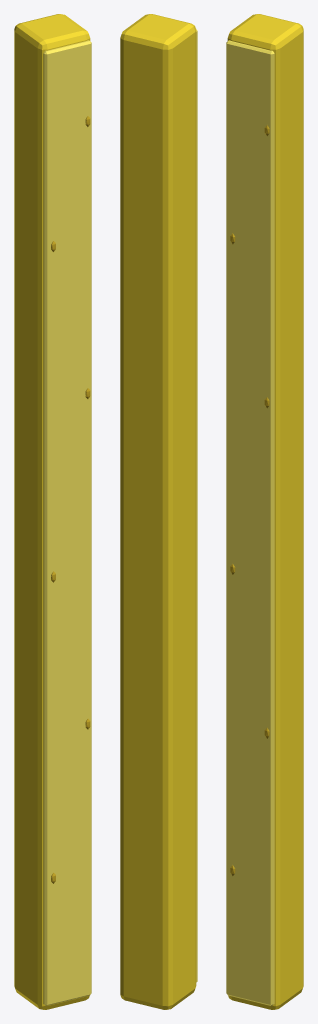
Rendered from danmuji.glb.
3 views of the same model, side by side, from view 1: azimuth 30°, elevation 25°; view 2: azimuth 150°, elevation 25°; view 3: azimuth 330°, elevation 25° (orthographic).
Visible parts, largest first — view 1: moist_cut_side, danmuji_strip; view 2: danmuji_strip, moist_cut_side; view 3: moist_cut_side, danmuji_strip.
Part boxes in pixels (bbox=[...]): moist_cut_side: bbox=[43, 40, 91, 1005]; danmuji_strip: bbox=[14, 14, 90, 1009]; danmuji_strip: bbox=[120, 14, 196, 1009]; moist_cut_side: bbox=[196, 29, 197, 982]; moist_cut_side: bbox=[226, 40, 274, 1005]; danmuji_strip: bbox=[227, 14, 303, 1009].
Bounding box in the file's own units: 0.056 × 0.998 × 0.0613.
